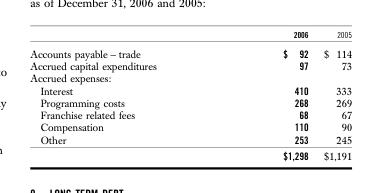table: (29, 28, 351, 161)
table column: (29, 28, 219, 161), (219, 28, 315, 161), (315, 28, 351, 161)
table column header: (29, 28, 351, 42)
table projected row header: (29, 71, 351, 83)
table row: (29, 42, 351, 59), (29, 28, 351, 42), (29, 133, 351, 147), (29, 147, 351, 161), (29, 83, 351, 96), (29, 120, 351, 133), (29, 59, 351, 71), (29, 71, 351, 83), (29, 96, 351, 108), (29, 108, 351, 120)
